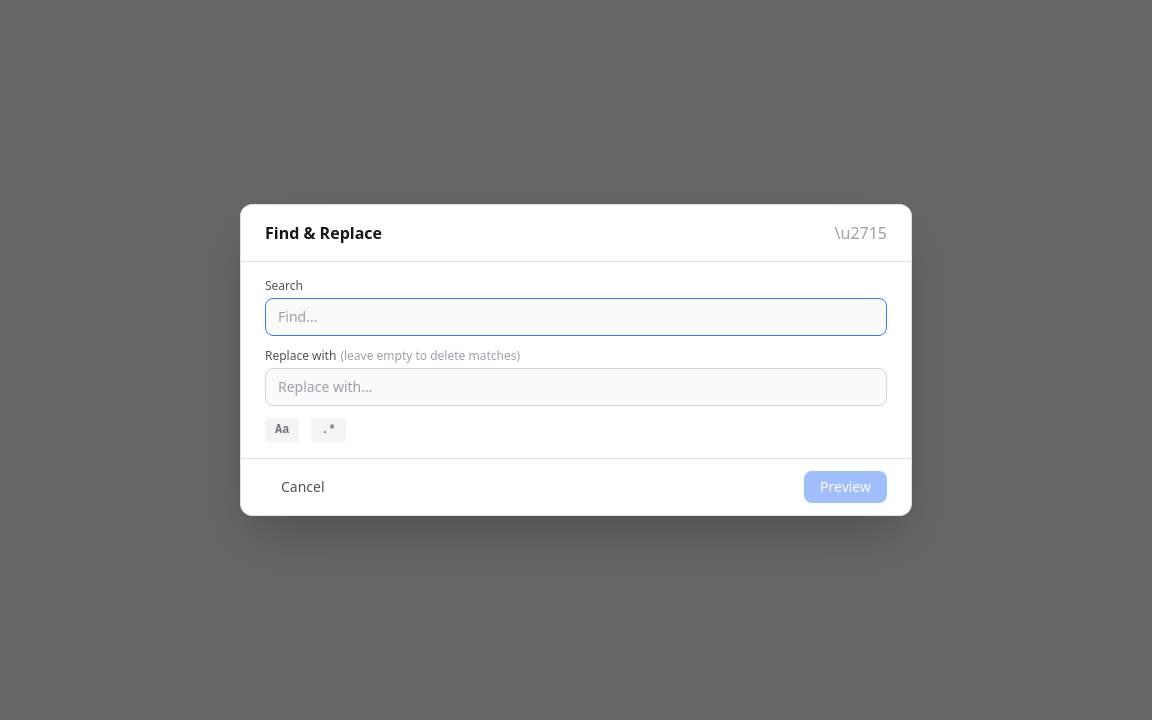
it: FindReplaceModal › disables Replace when every chapter is deselected
Type "whilst" into the field with placeholder "Find…" at coordinates (576, 317), box [265, 298, 887, 336]
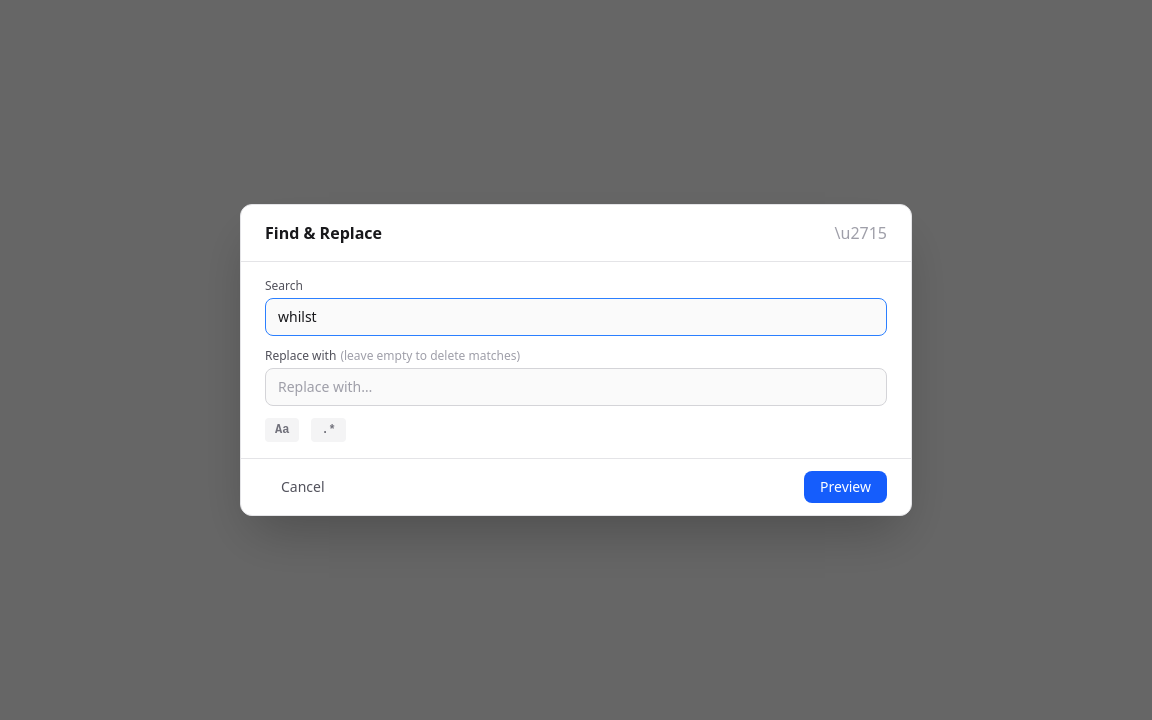
Click the button "Preview" at coordinates (846, 487), box [804, 471, 887, 503]
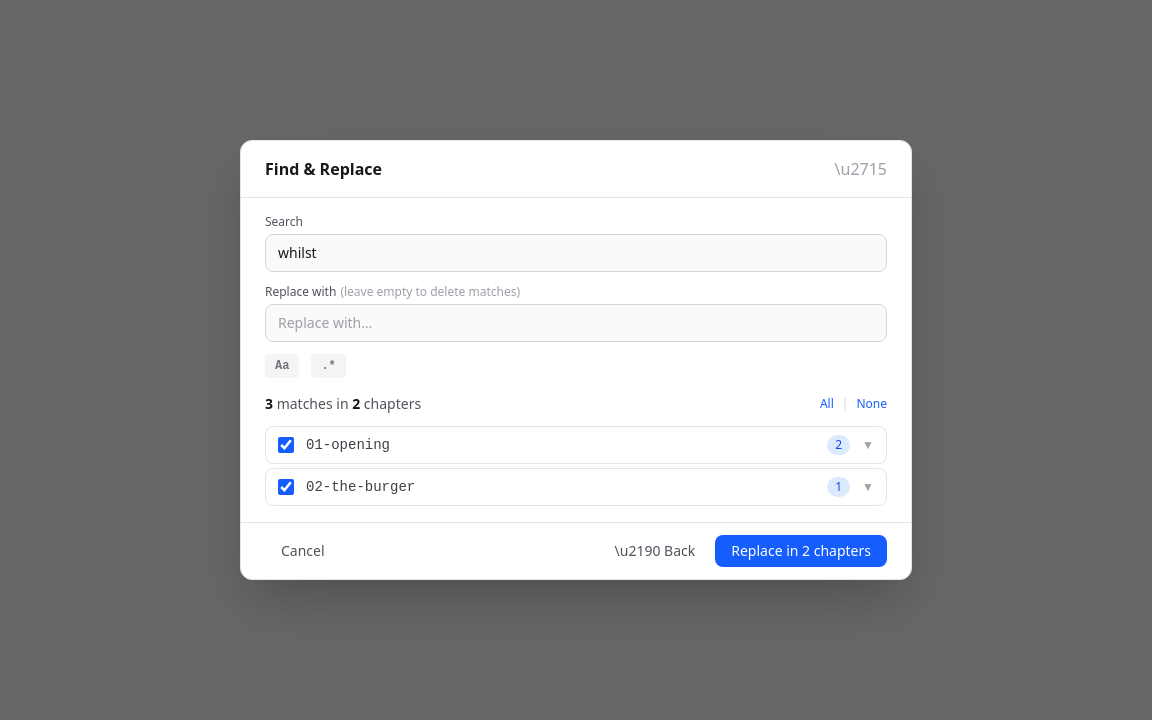
Expected: the text "01-opening" is shown, [306, 437, 390, 453]
Click the button "None" at coordinates (872, 404), box [856, 396, 887, 412]
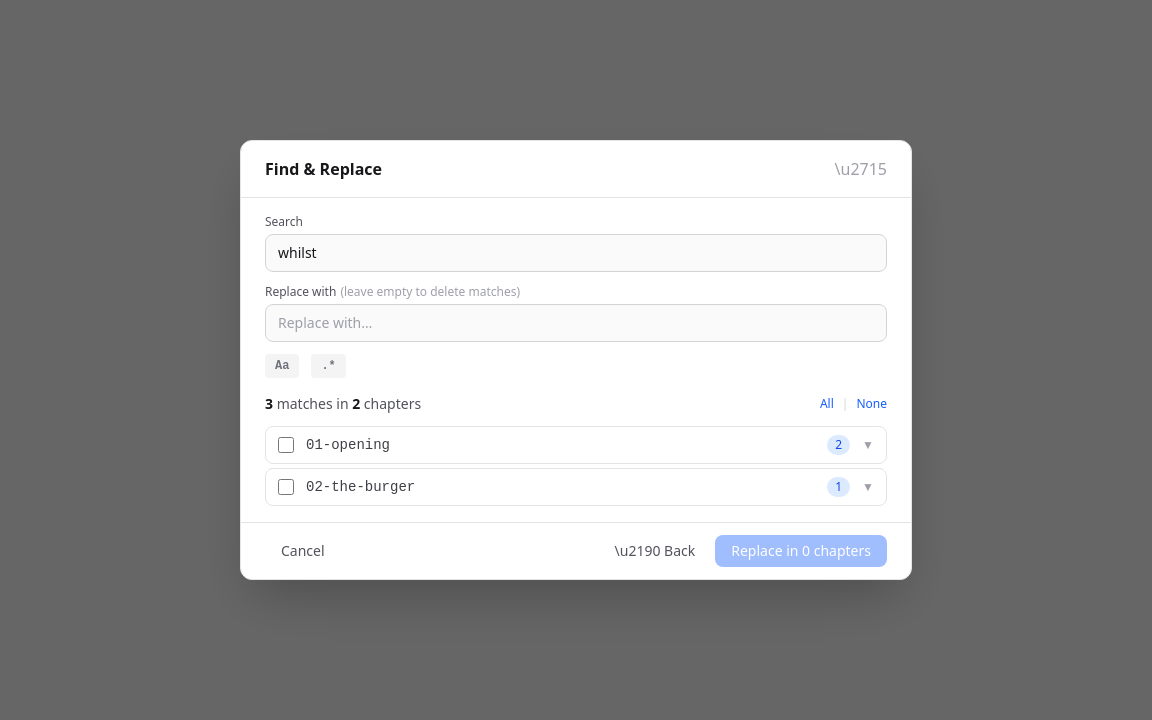
Expected: the button "Replace in 0 chapters" is disabled, [715, 535, 887, 567]
Click the button "All" at coordinates (827, 404), box [820, 396, 834, 412]
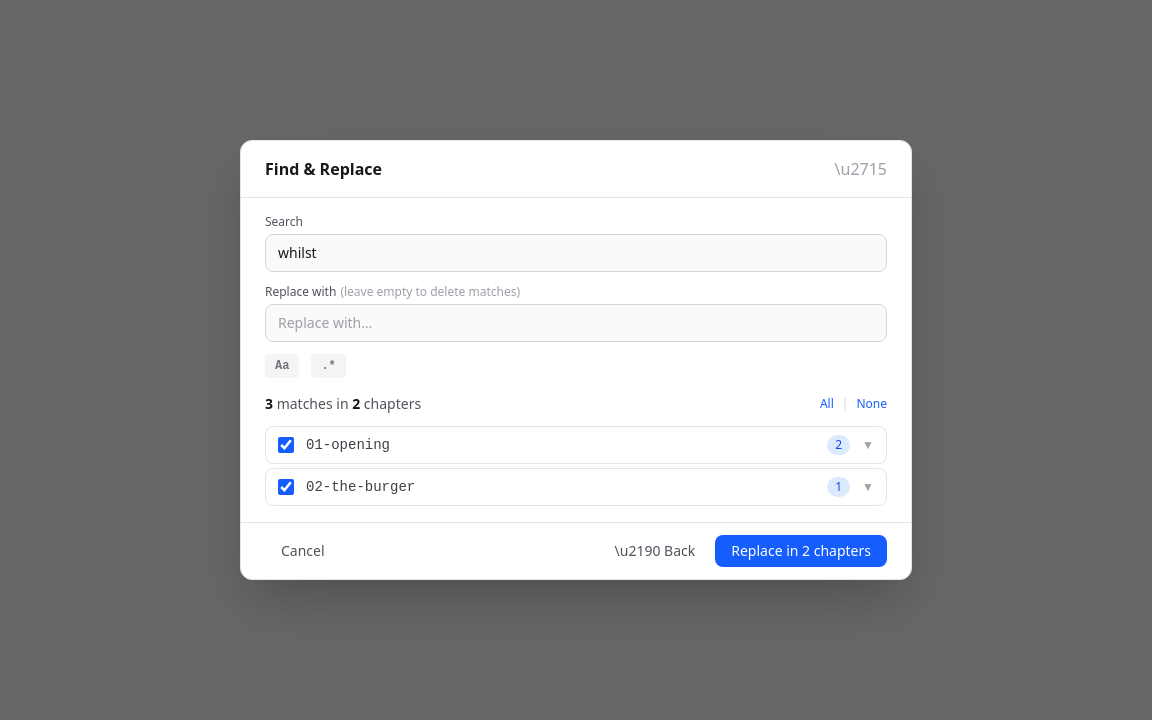
Expected: the button "Replace in 2 chapters" is enabled, [715, 535, 887, 567]
